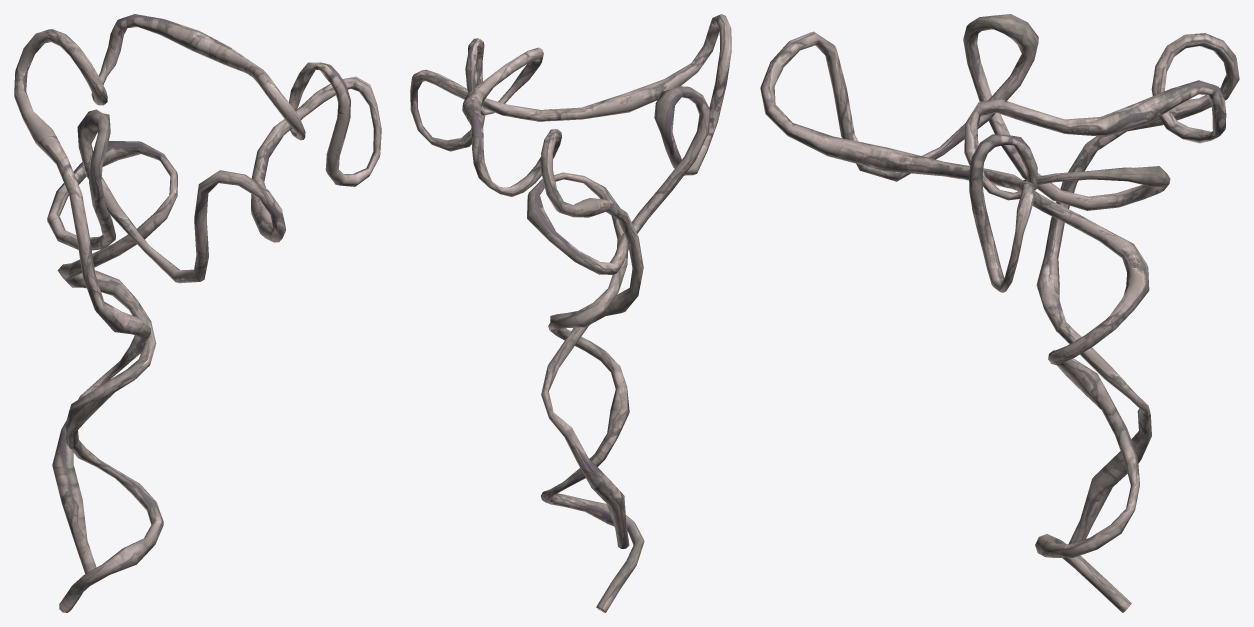
Rendered from wysteria_corner_02_SM.fbx.
The picture shows the model from 3 angles, left to right: view 1: azimuth 30°, elevation 25°; view 2: azimuth 150°, elevation 25°; view 3: azimuth 270°, elevation 25°; orthographic projection. The views are drawn at different scales.
Parts seen in each view (by area): view 1: wysteria_corner_02_SM_LOD0; view 2: wysteria_corner_02_SM_LOD0; view 3: wysteria_corner_02_SM_LOD0.
Part boxes in pixels (bbox=[...]): wysteria_corner_02_SM_LOD0: bbox=[14, 14, 381, 612]; wysteria_corner_02_SM_LOD0: bbox=[410, 14, 731, 612]; wysteria_corner_02_SM_LOD0: bbox=[760, 14, 1239, 612].
Bounding box in the file's own units: 282 × 352 × 479.
Materials: 1 (1 with a texture image).
